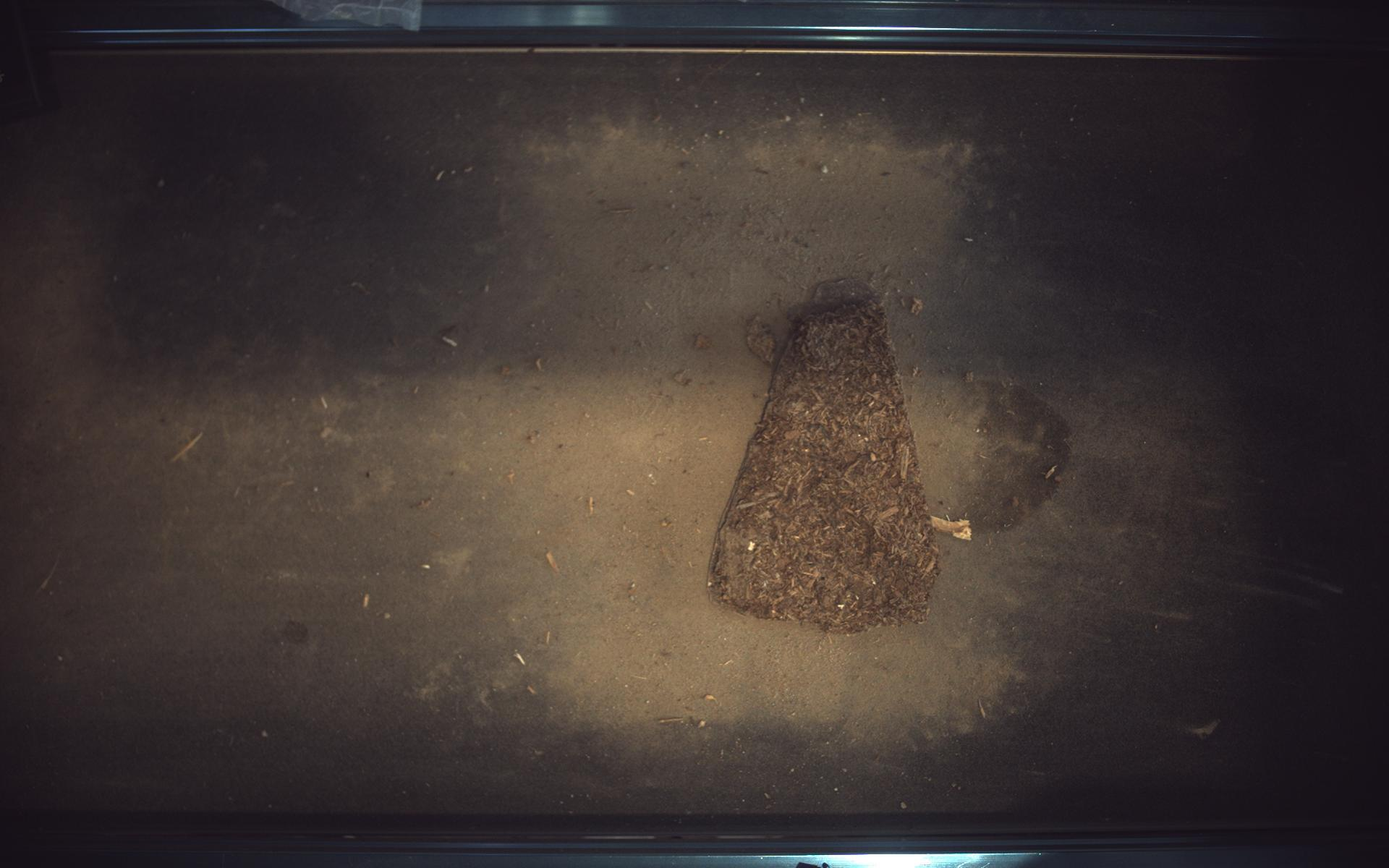wood: (710, 278, 941, 633)
